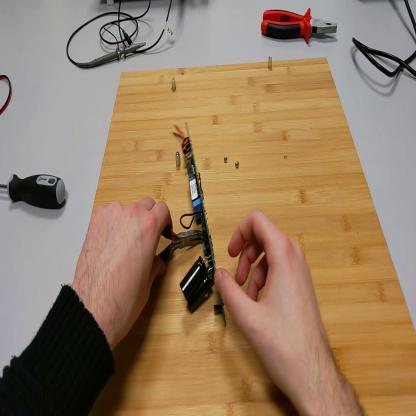hand: (215, 212, 330, 407), (70, 198, 172, 344)
high voltage board: (169, 123, 229, 327)
oscilloscope probe tip: (90, 39, 149, 66)
pliers: (260, 7, 340, 48), (159, 223, 204, 263)
screwdriver-: (2, 172, 70, 210)
working area: (92, 58, 416, 415)
